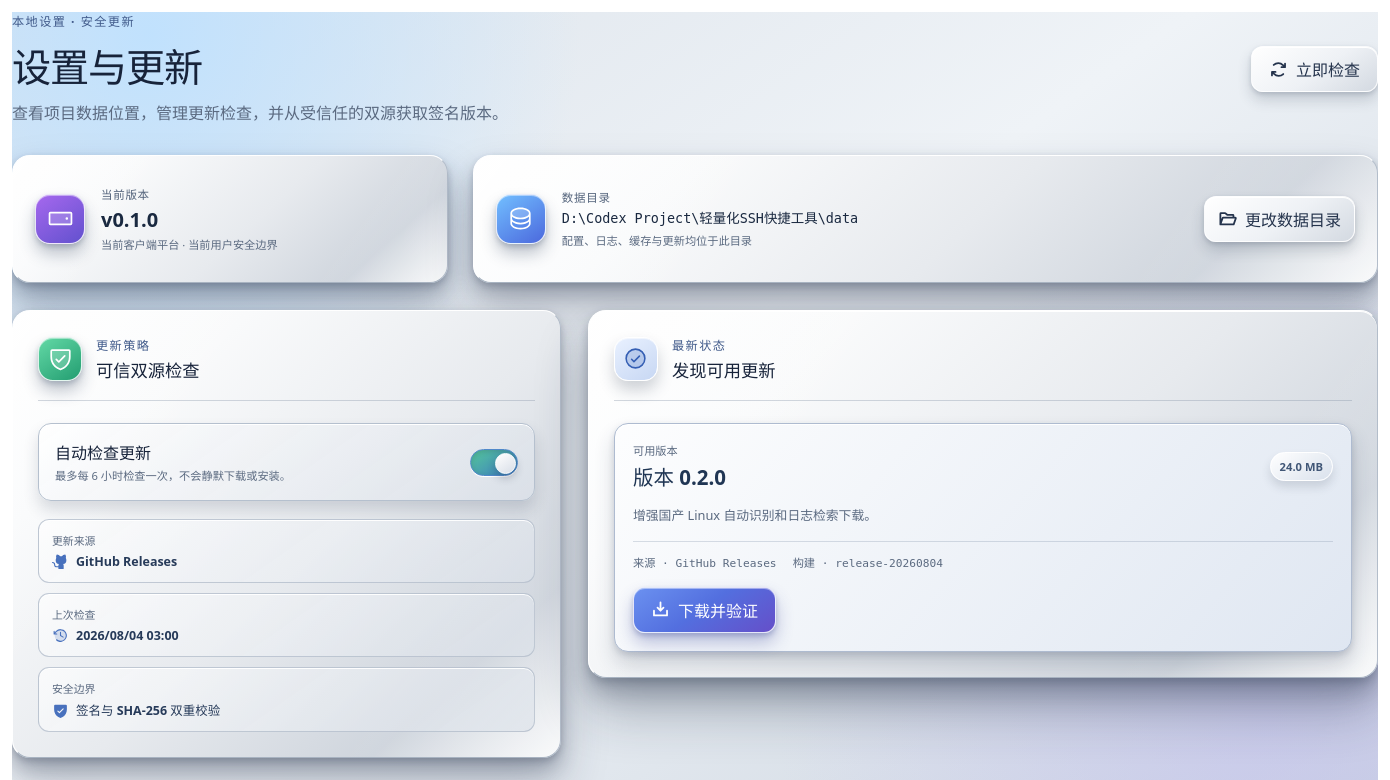
Test case: SettingsPage › persists the automatic update-check preference
Click the checkbox labelled "自动检查更新".
click(103, 453)  # box 38,423 -> 535,501
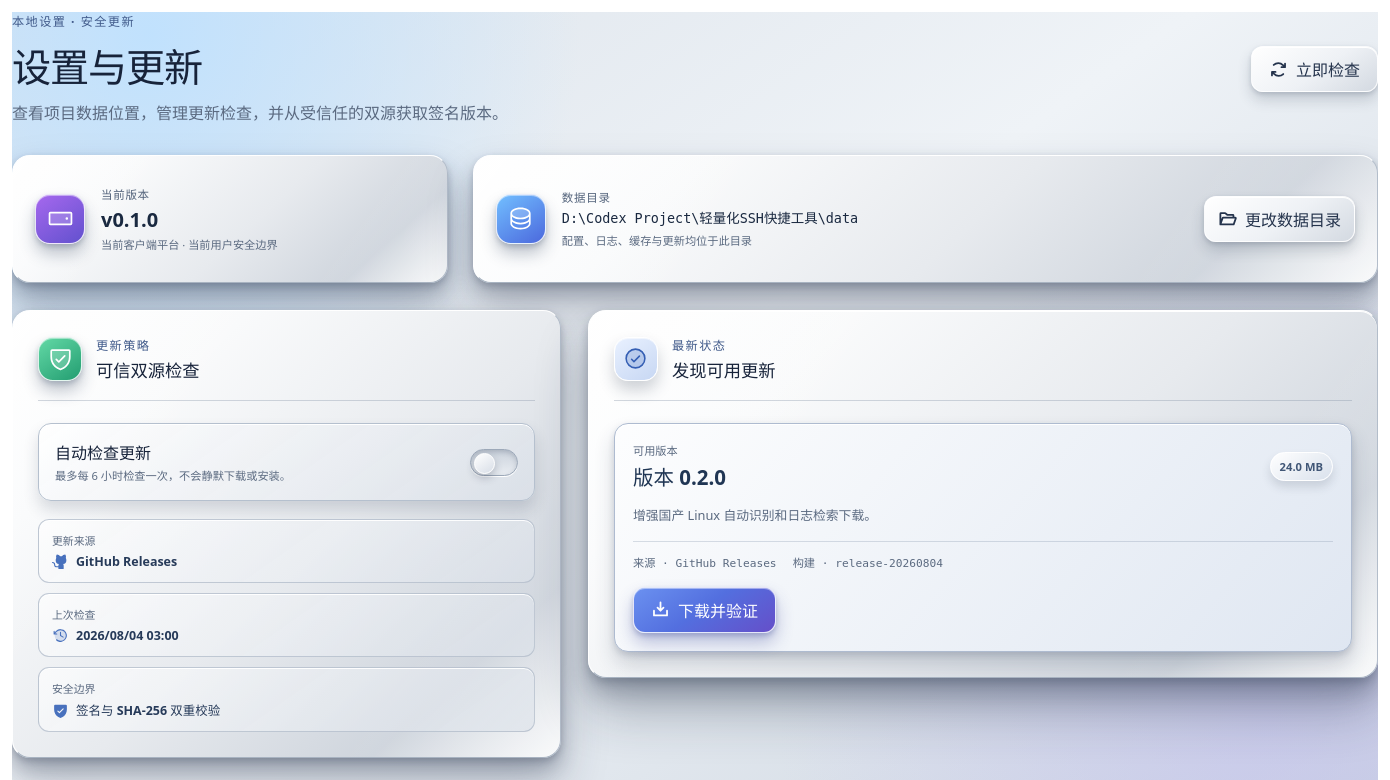
expect the checkbox labelled "自动检查更新" is not checked: met, box 38,423 -> 535,501
